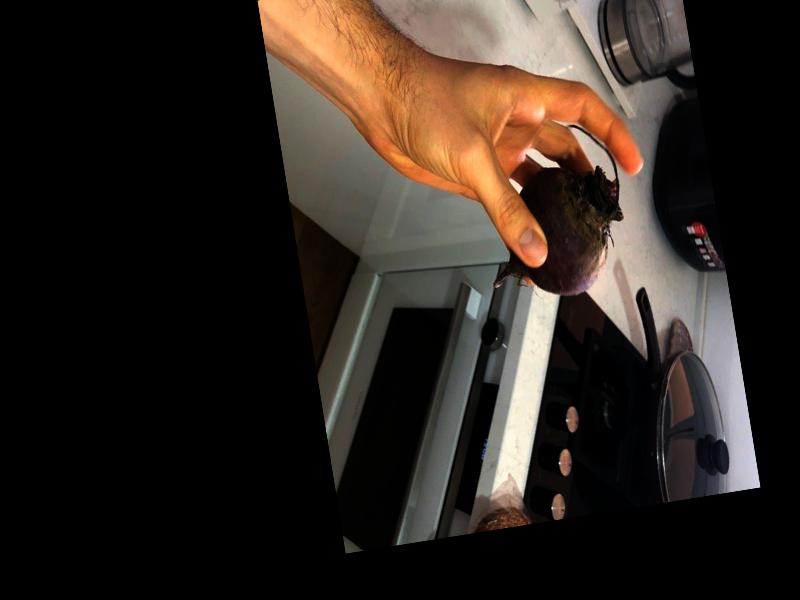Beet: (471, 121, 634, 306)
